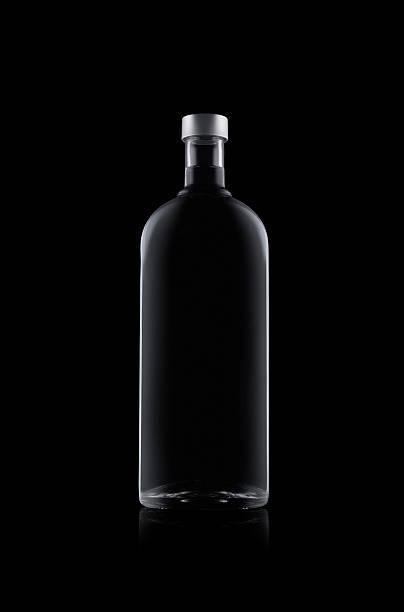bottle-glass: (134, 108, 275, 517)
